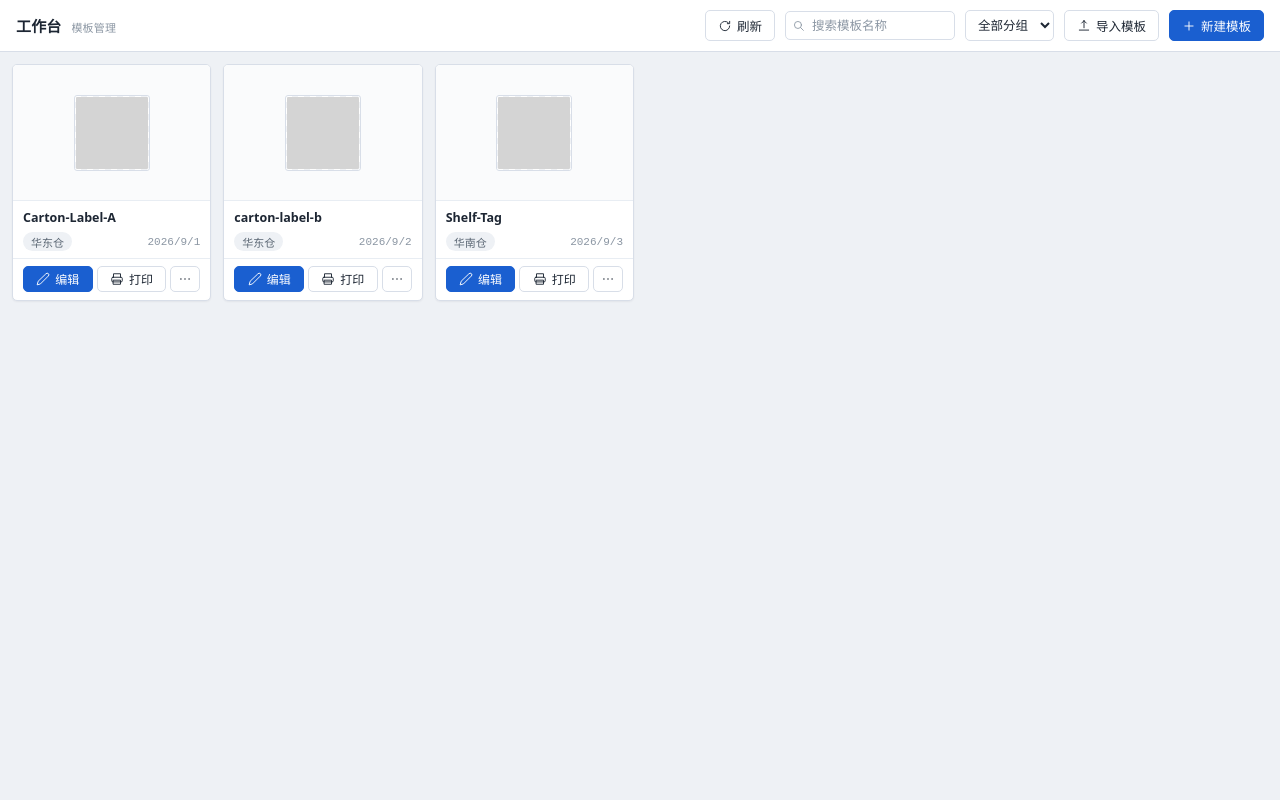
Test: ⋯ 溢出菜单（迭代 104 · #225） › 按 Esc 或点菜单外区域关闭；再点 ⋯ 切换收起
Expected: the text "Shelf-Tag" is shown, [446,209,502,226]
Click the button named "更多操作".
click(608, 279)  # box [593,266,623,292]
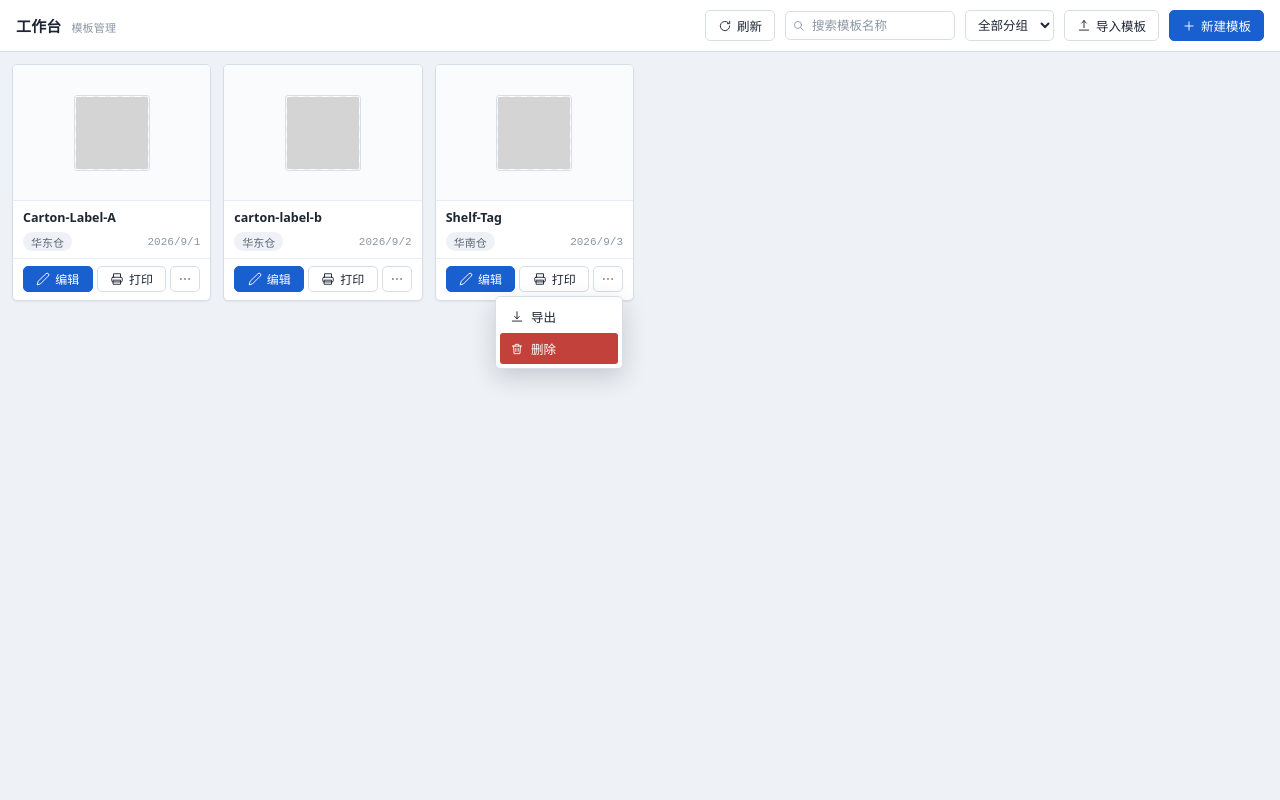
Press Escape
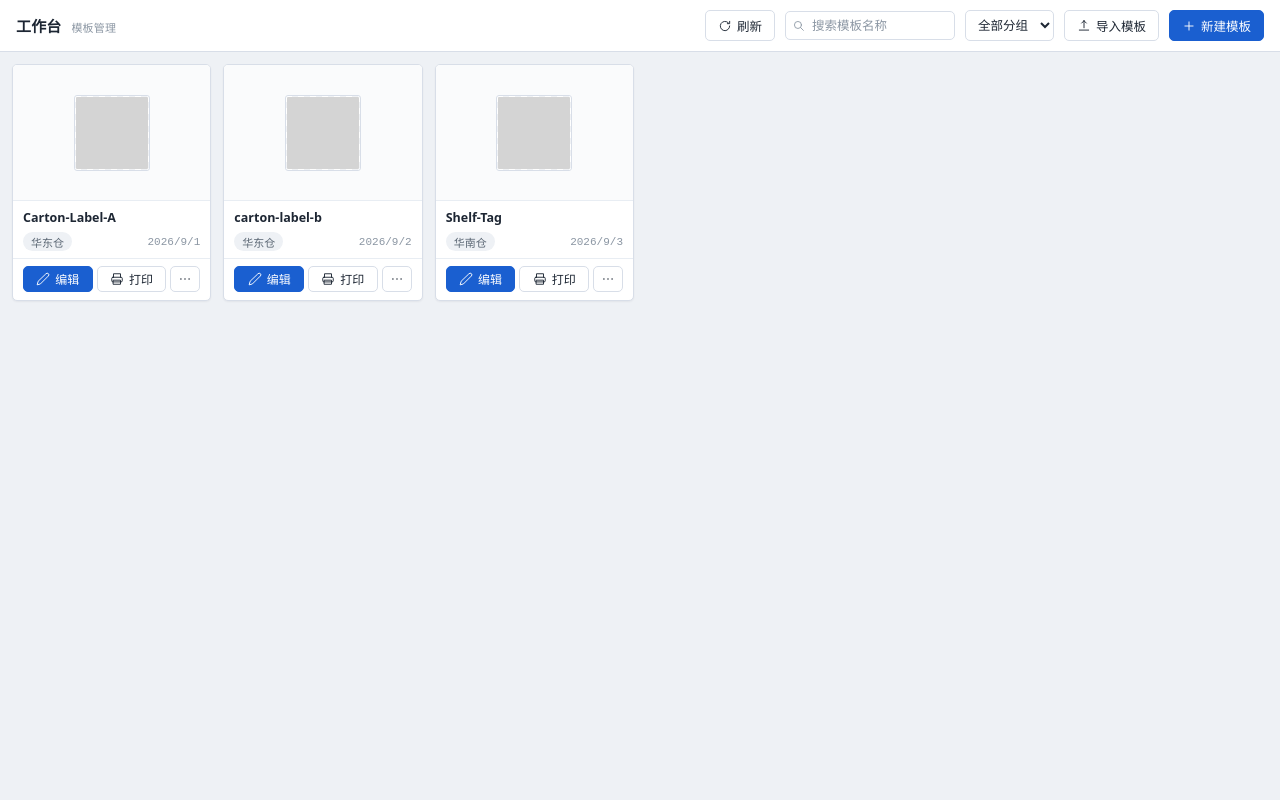
Now the menu is gone
Click the button named "更多操作".
click(608, 279)  # box [593,266,623,292]
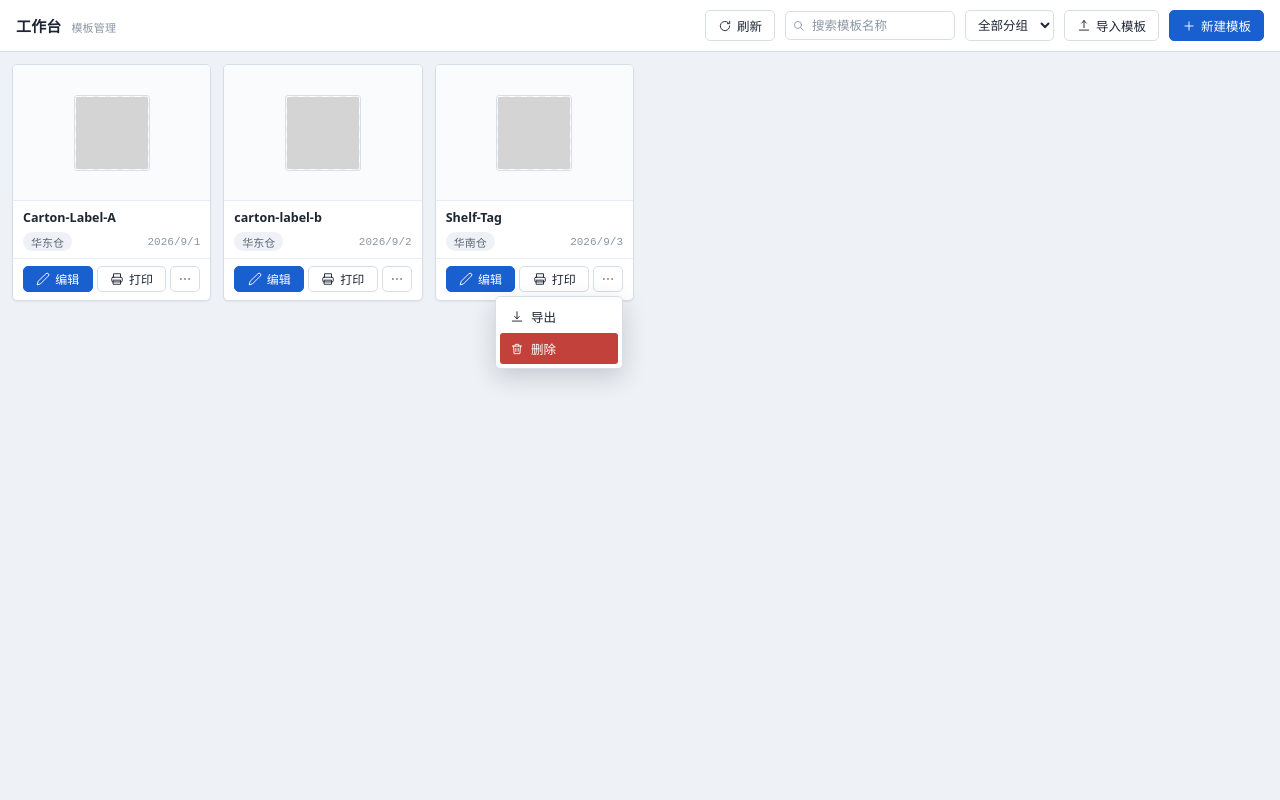
Now the menu is shown, box [495,296,623,369]
Press the mouse on the element that starts with "工作台" at [640, 400], box [0,0,1279,799]
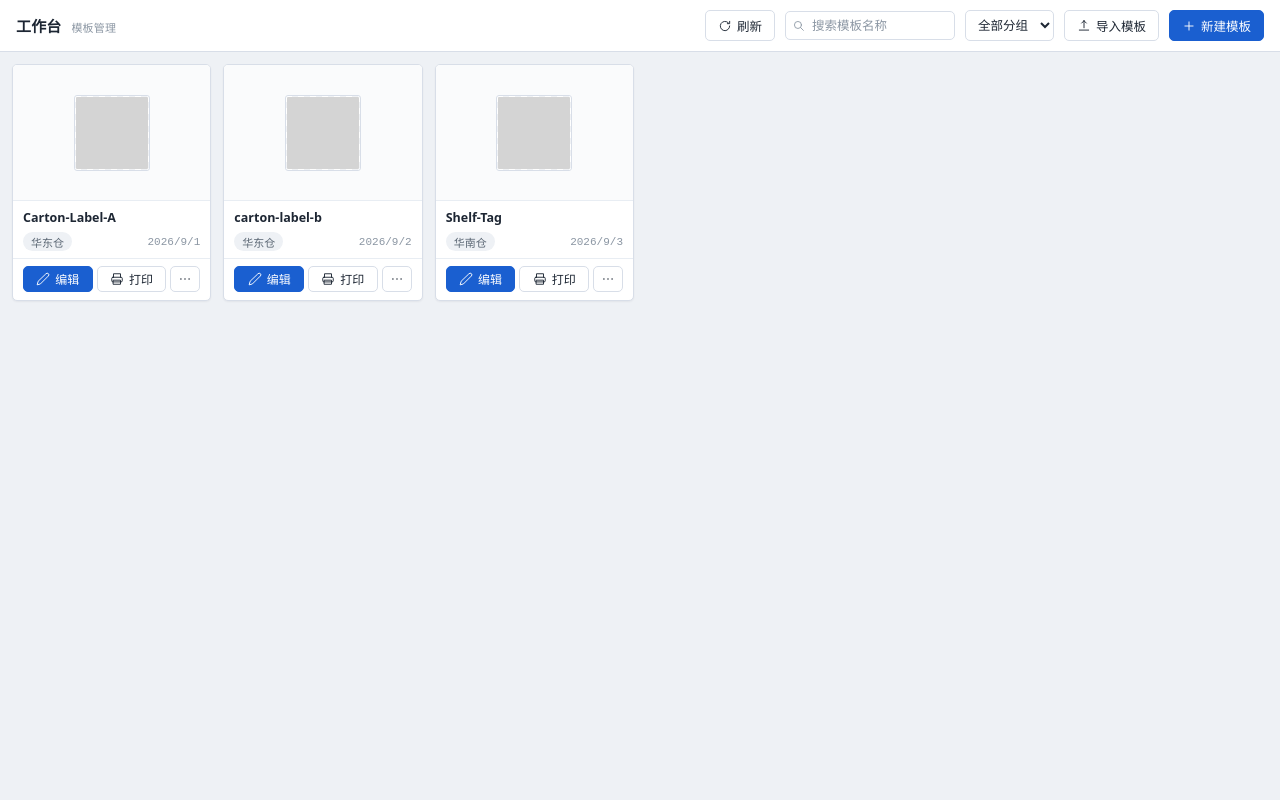
Now the menu is gone
Click the button named "更多操作".
click(608, 279)  # box [593,266,623,292]
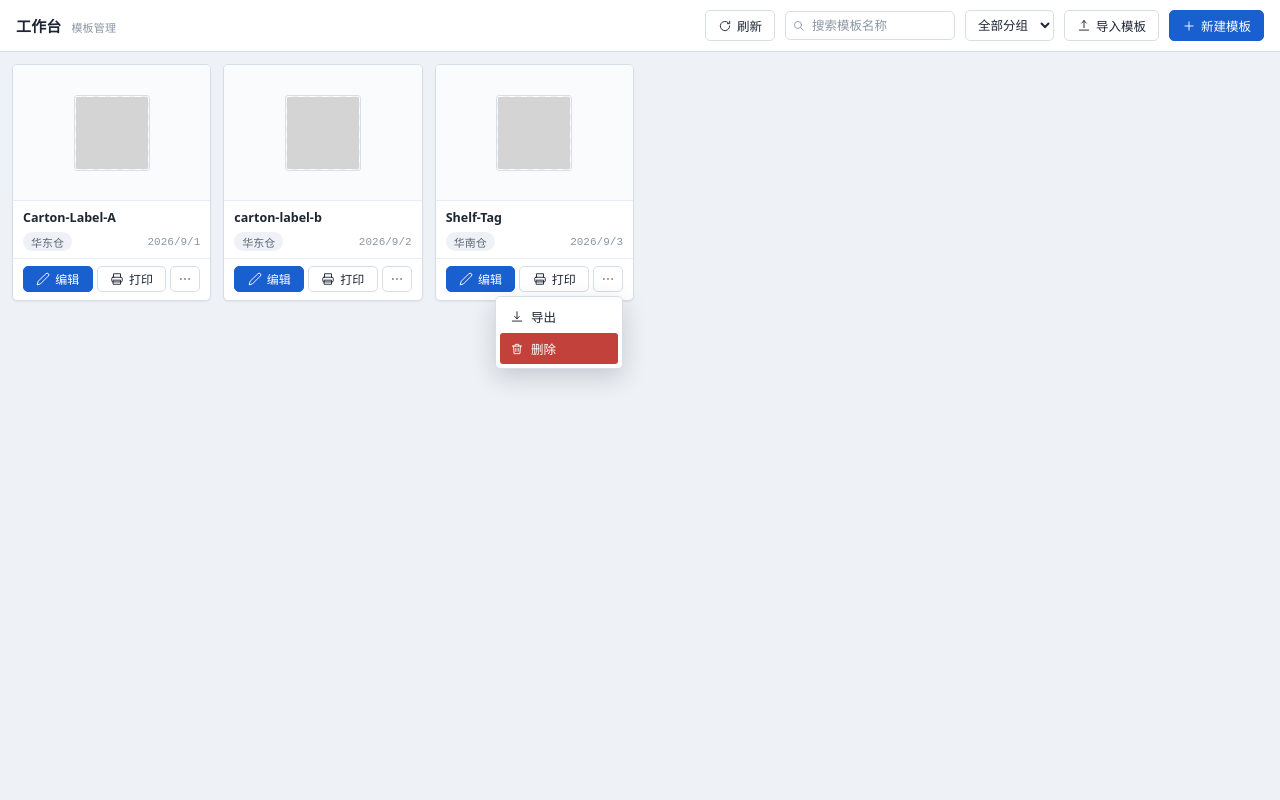
Now the menu is shown, box [495,296,623,369]
Click the button named "更多操作".
click(608, 279)  # box [593,266,623,292]
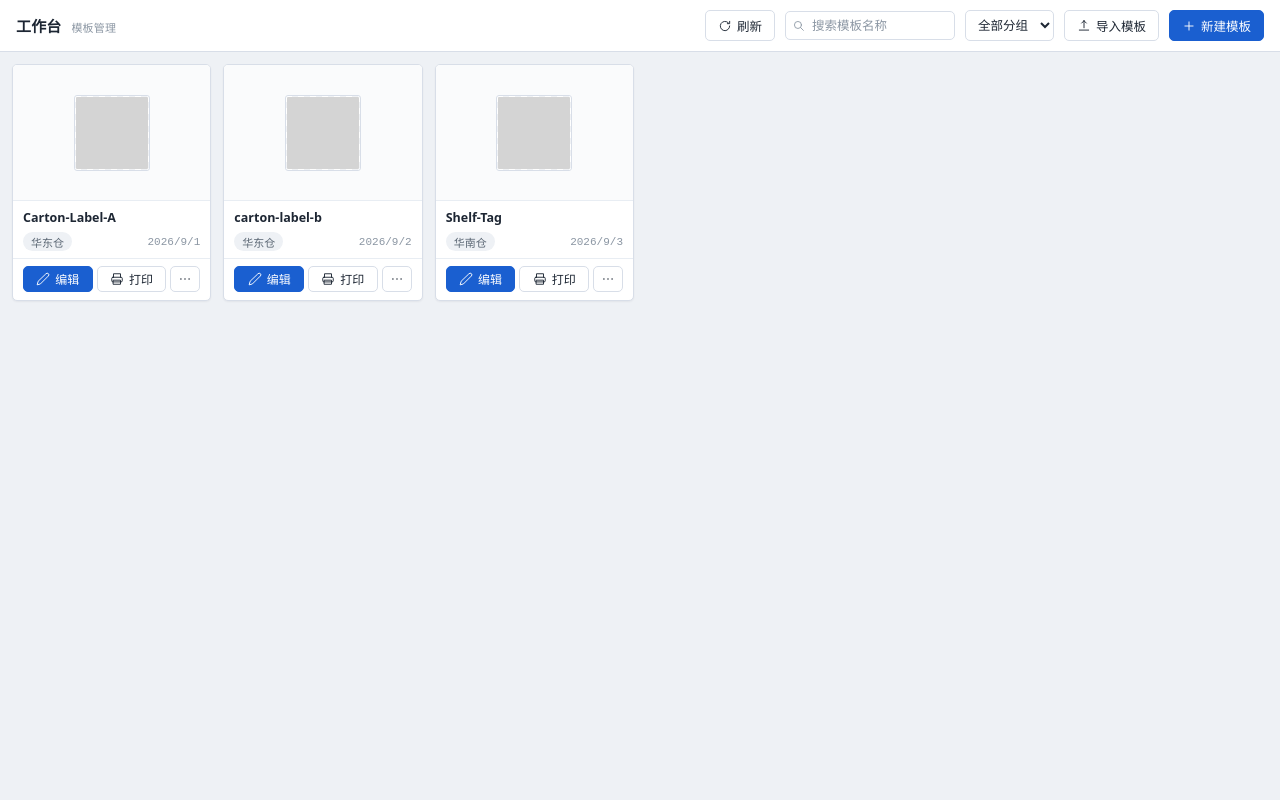
Now the menu is gone
